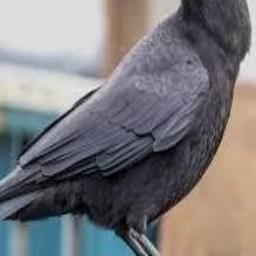Crow: (0, 0, 252, 256)
